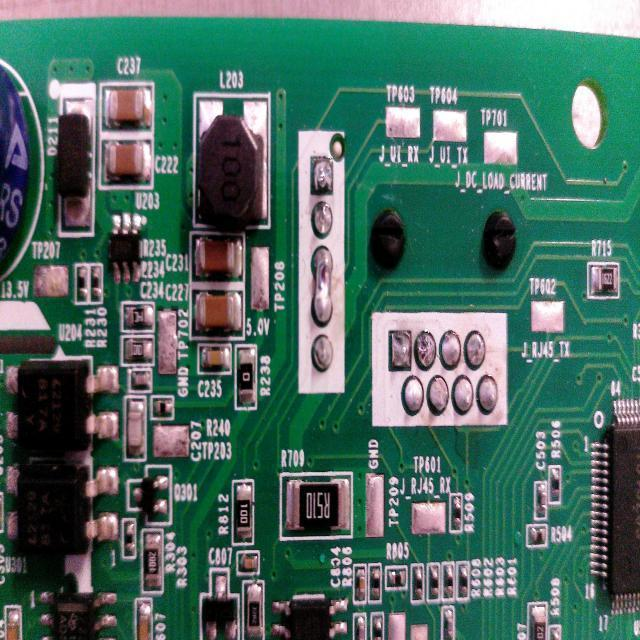Soldering shorted: (313, 245, 335, 333)
